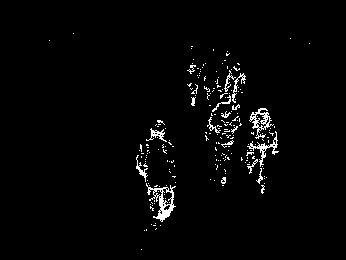person: (136, 120, 178, 222), (206, 93, 241, 187), (246, 108, 280, 195)
